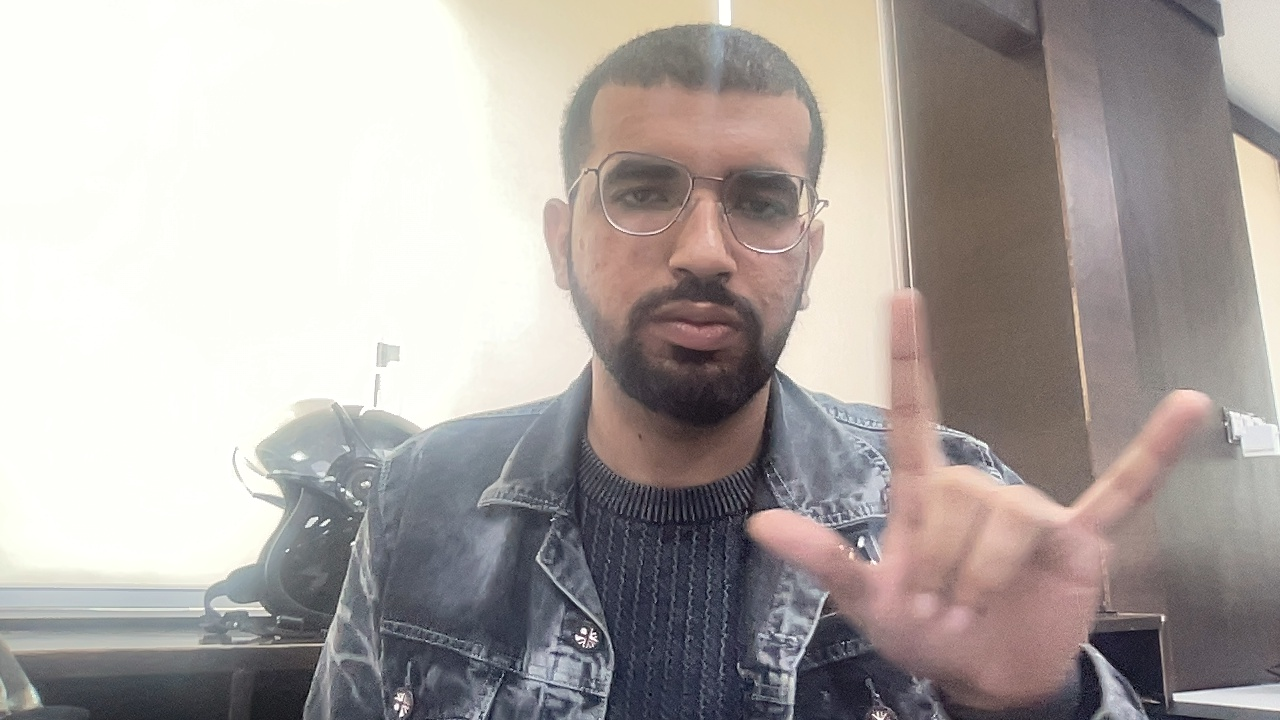I Love You: (714, 261, 1233, 695)
